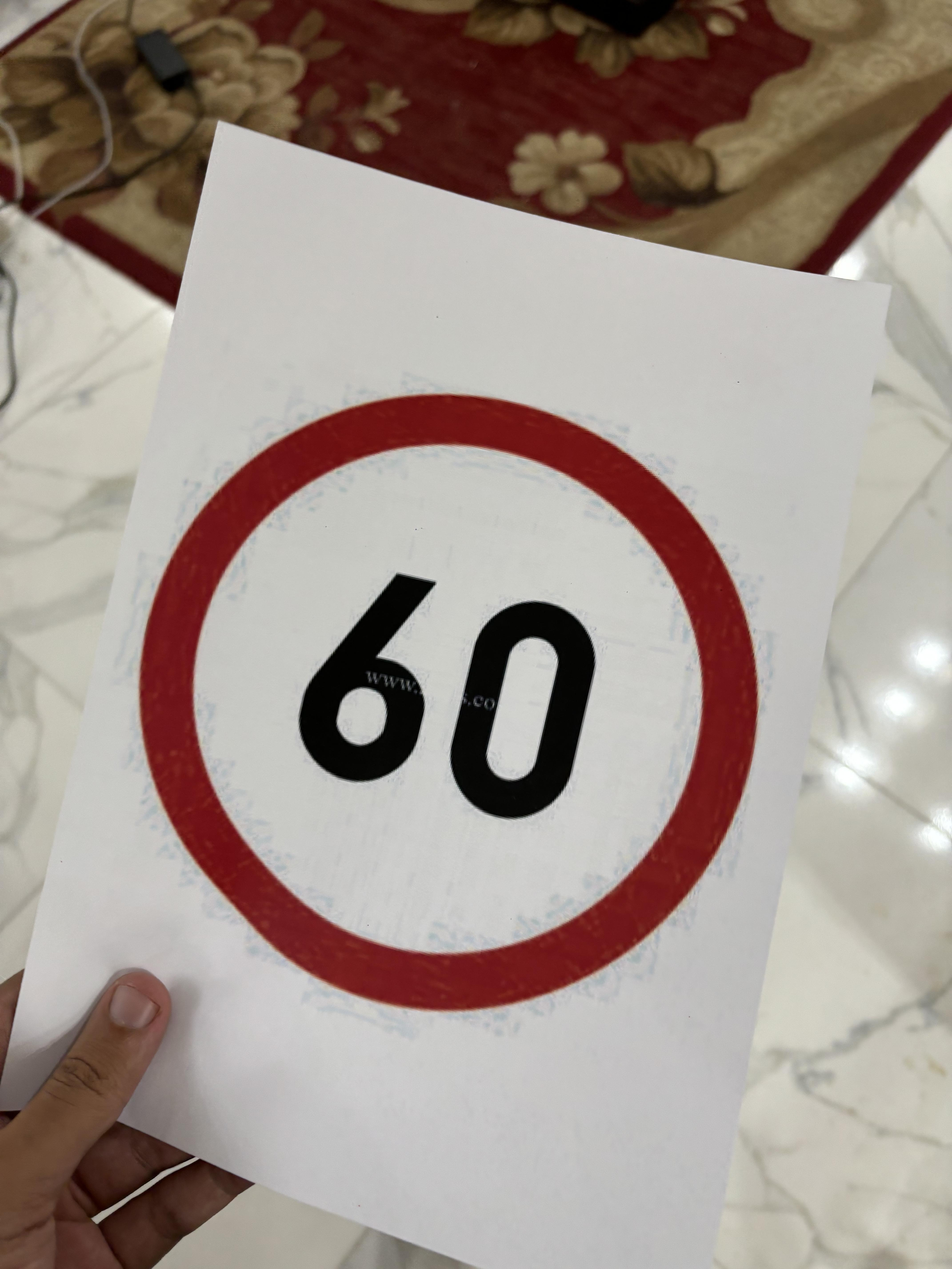60-Speed: (138, 391, 765, 1020)
